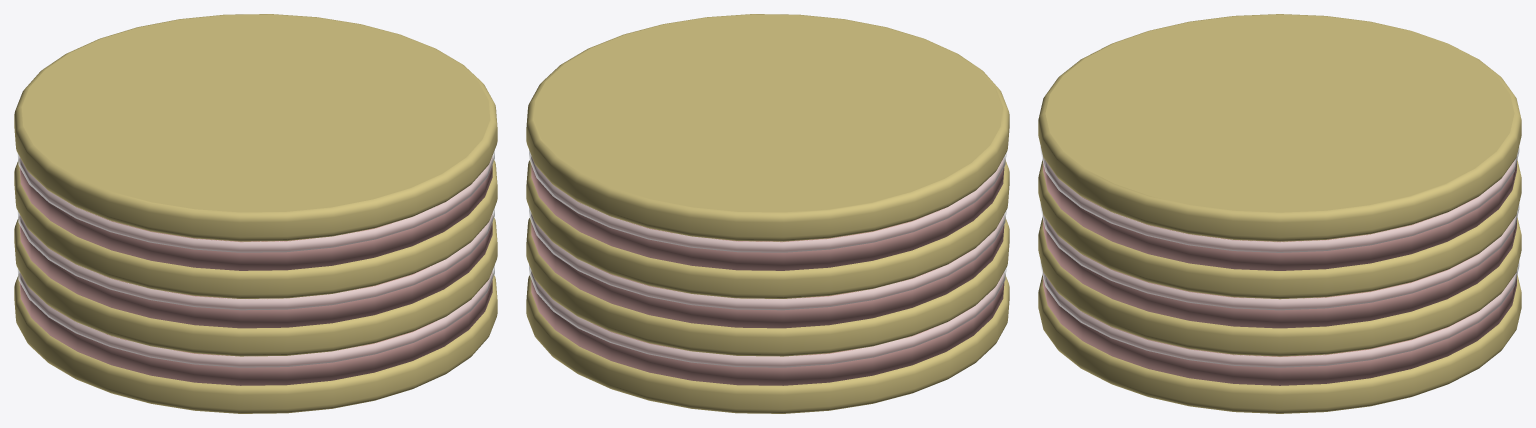
File: tier_12.glb
3 views of the same model, side by side, from view 1: azimuth 30°, elevation 25°; view 2: azimuth 150°, elevation 25°; view 3: azimuth 270°, elevation 25° (orthographic).
Parts seen in each view (by area): view 1: 12_TopCap, 12_Cake, 12_Frosting, 12_Filling; view 2: 12_TopCap, 12_Cake, 12_Frosting, 12_Filling; view 3: 12_TopCap, 12_Cake, 12_Frosting, 12_Filling.
Boxes of the visible parts, x1,y1,x2,y2 form: 12_TopCap: (21,14,490,212); 12_Cake: (14,14,497,413); 12_Frosting: (19,156,492,385); 12_Filling: (17,150,494,367); 12_TopCap: (533,14,1002,212); 12_Cake: (526,14,1009,413); 12_Frosting: (531,156,1004,385); 12_Filling: (529,150,1006,367); 12_TopCap: (1045,14,1514,212); 12_Cake: (1038,14,1521,413); 12_Frosting: (1043,158,1516,385); 12_Filling: (1040,146,1519,367).
Size of the model in its own units: 0.3048 by 0.1397 by 0.3048.
